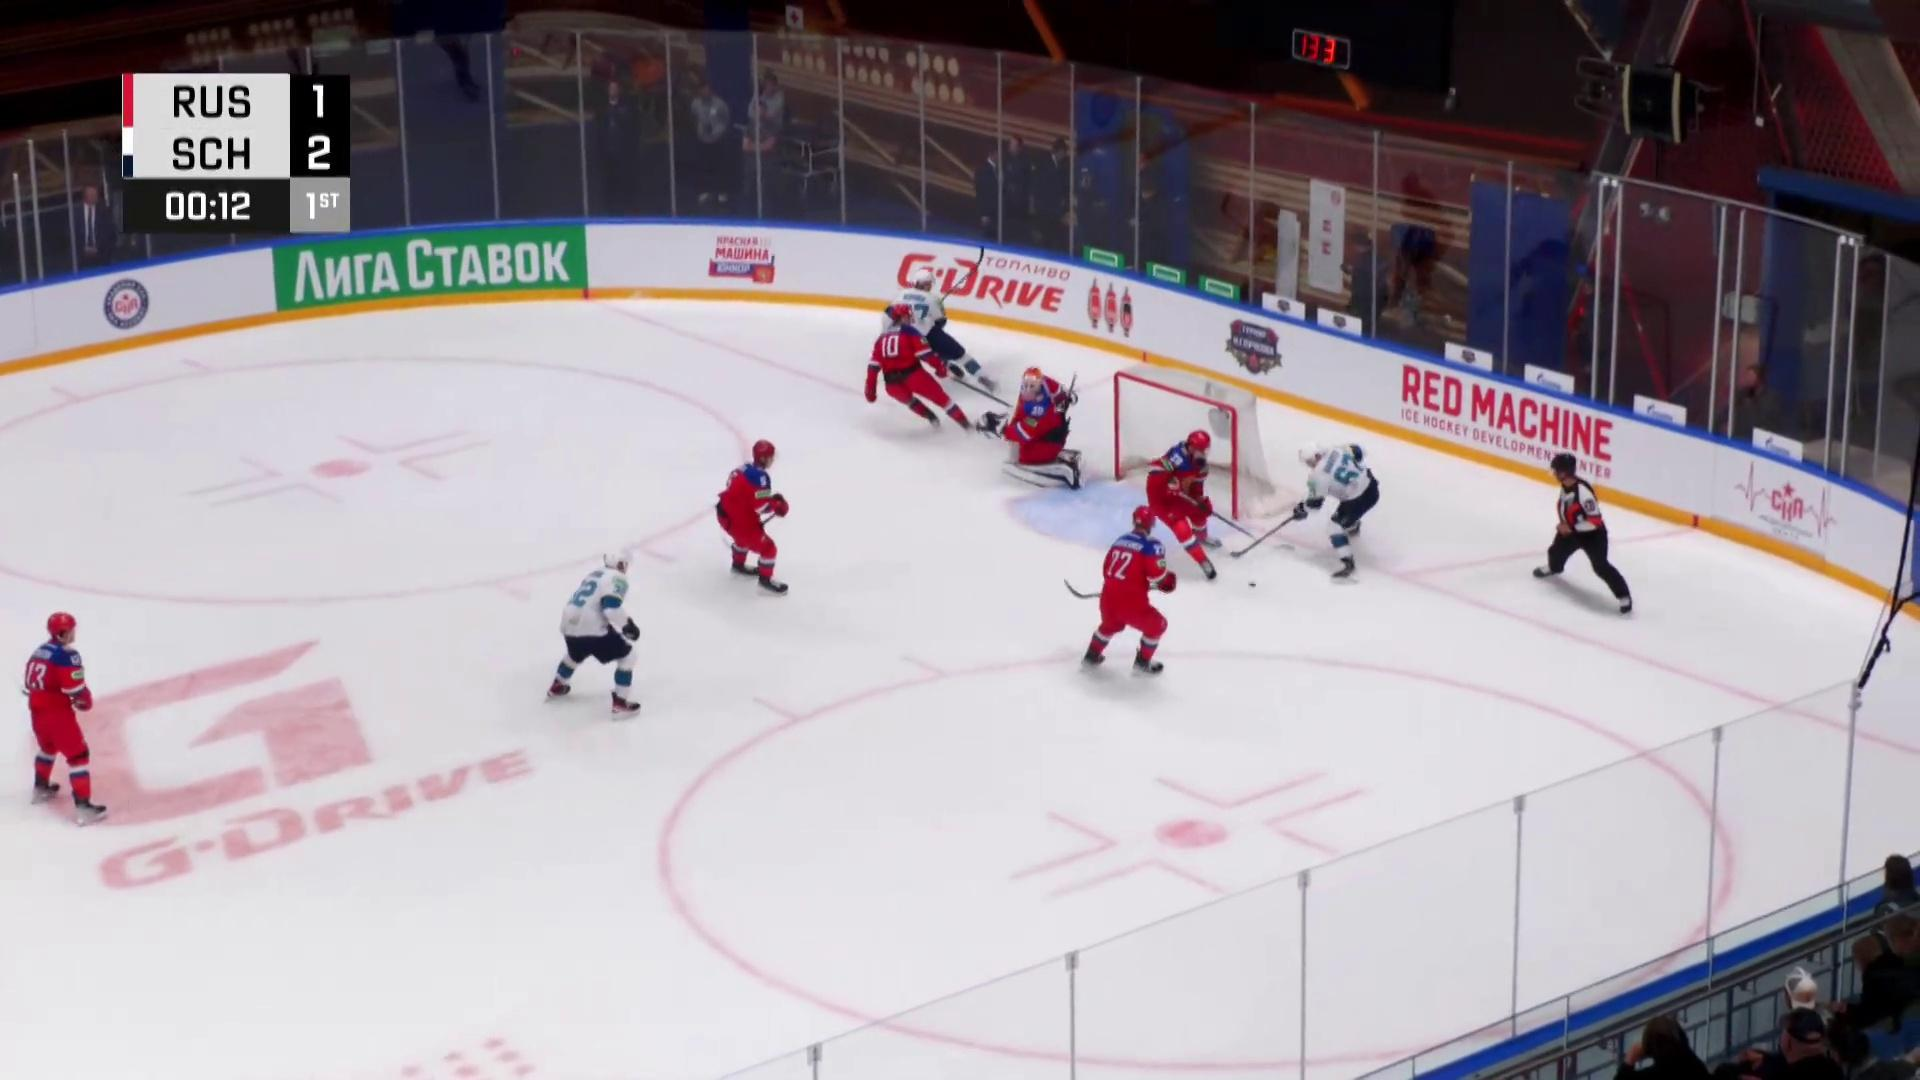ball: (1247, 583, 1257, 588)
